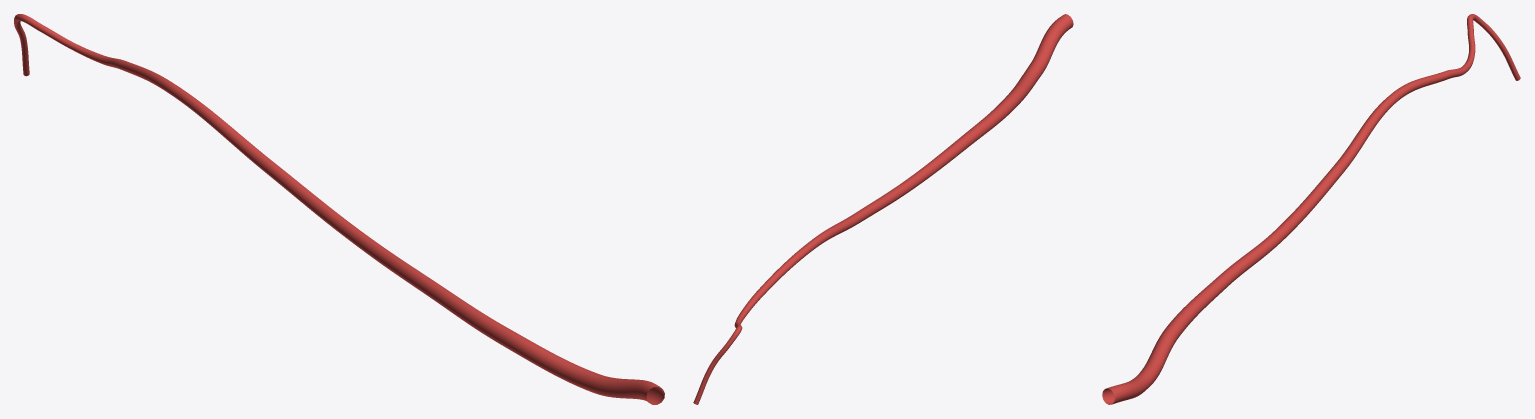
The picture shows the model from 3 angles, left to right: view 1: azimuth 30°, elevation 25°; view 2: azimuth 150°, elevation 25°; view 3: azimuth 330°, elevation 25°; orthographic projection. The views are drawn at different scales.
Parts seen in each view (by area): view 1: 左侧胫后动脉; view 2: 左侧胫后动脉; view 3: 左侧胫后动脉.
Part boxes in pixels (<box>): 左侧胫后动脉: <box>14,14,664,404</box>; 左侧胫后动脉: <box>693,14,1073,404</box>; 左侧胫后动脉: <box>1102,14,1520,404</box>.
Bounding box in the file's own units: 0.0646 × 0.0464 × 0.4958.
